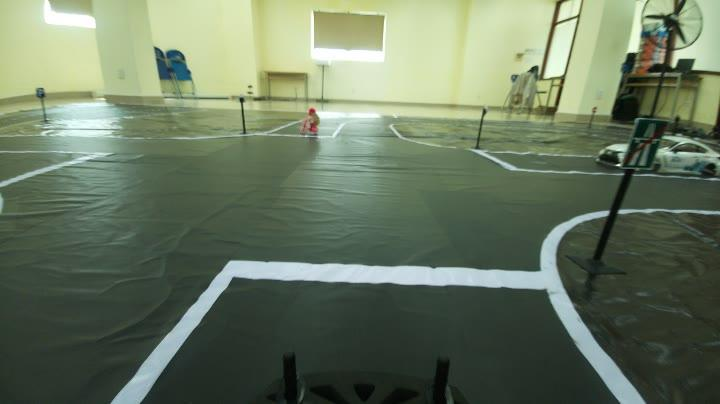highway_exit: (619, 110, 671, 173)
